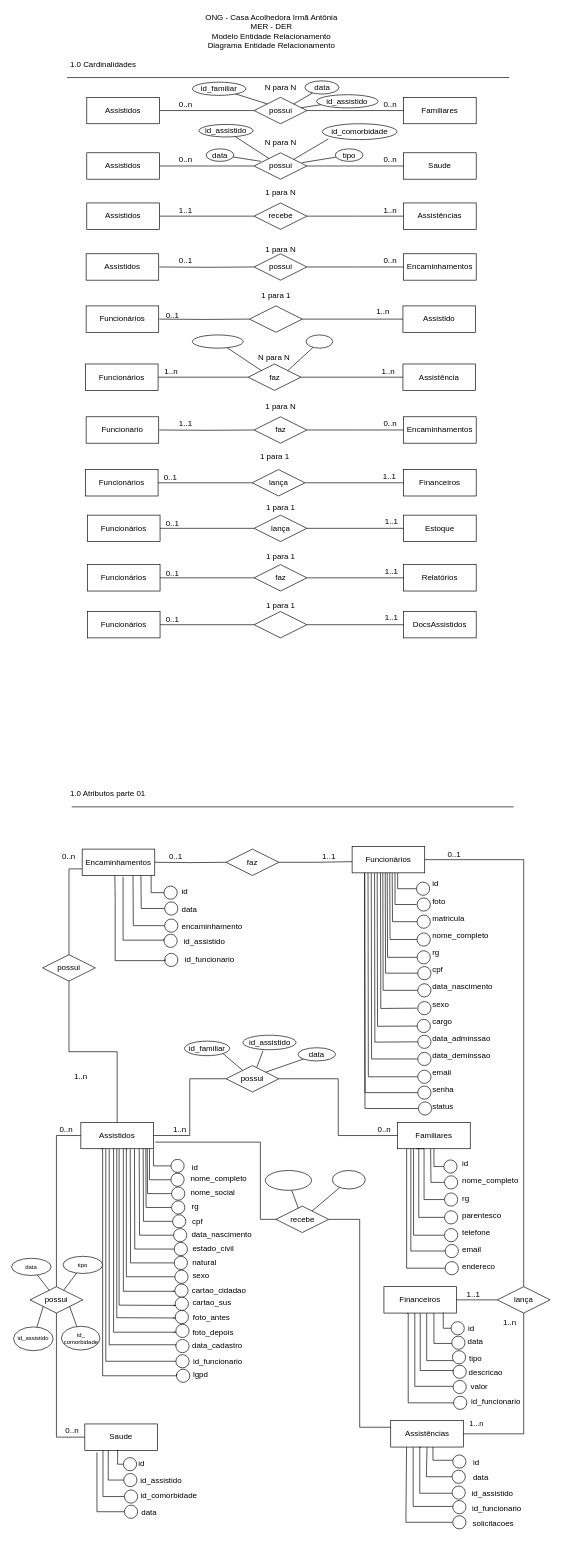
Image size: 562x1544. Some labels were removed from this diagram. The shapes that lost their labels are listed below. From the top down, each one's box as (x1, y1, x2, y2) in pixels, then its label:
(249, 305, 302, 332): cadastra
(192, 334, 243, 348): assistencia
(306, 334, 333, 348): Itens
(253, 611, 307, 638): digitaliza
(265, 1170, 312, 1190): id_assistencia
(332, 1170, 365, 1189): id_itens
